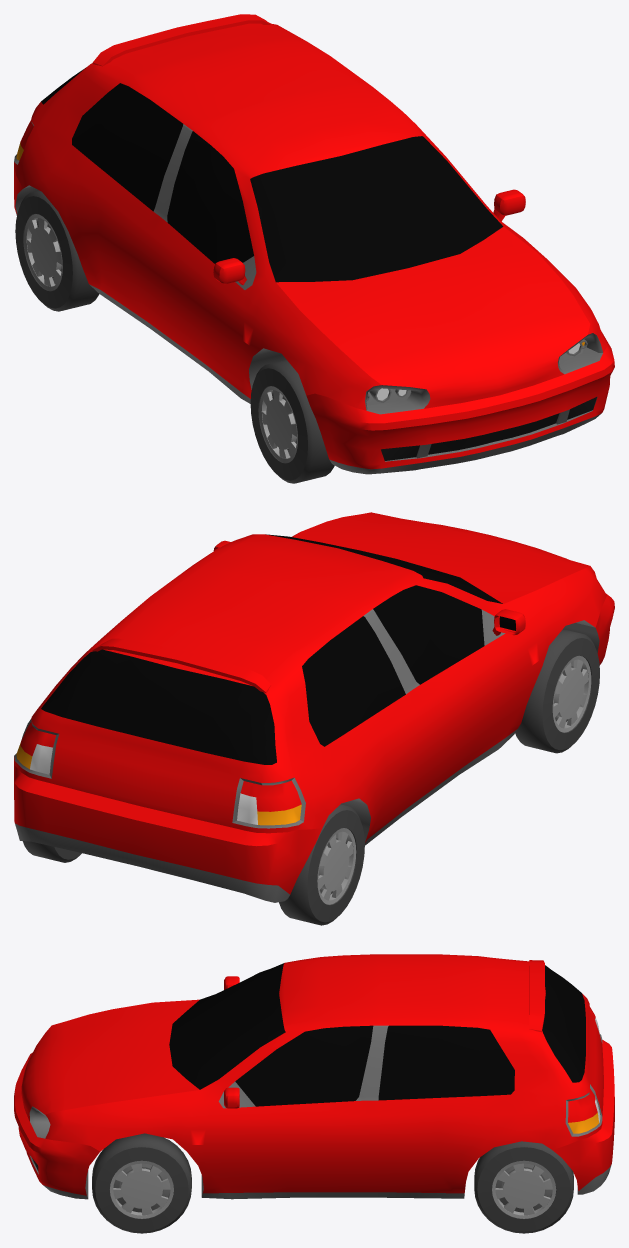
3 renders of one model, top to bottom at view 1: azimuth 30°, elevation 25°; view 2: azimuth 150°, elevation 25°; view 3: azimuth 270°, elevation 25°, orthographic. The views are drawn at different scales.
Visible parts, largest first — view 1: car_paint-material, glass-material.001, car_paint-material.002, car_paint-material.001, wheel-material.002, wheel-material.003, plastic-material.001, plastic-material.003, plastic-material.002, rims-material.002, rims-material.003, grill-material (+1 smaller); view 2: car_paint-material, glass-material.001, car_paint-material.003, car_paint-material.002, wheel-material.002, wheel-material.003, plastic-material.005, plastic-material.001, car_paint-material.004, rims-material.002, rims-material.003, light_red-material (+5 smaller); view 3: car_paint-material, glass-material.001, car_paint-material.002, wheel-material, wheel-material.001, car_paint-material.001, car_paint-material.003, plastic-material.001, rims-material, rims-material.001, car_paint-material.004, light_red-material (+3 smaller).
Boxes of the visible parts, bbox=[...] form: car_paint-material: bbox=[14, 22, 606, 410]; glass-material.001: bbox=[41, 68, 503, 282]; car_paint-material.002: bbox=[276, 227, 590, 408]; car_paint-material.001: bbox=[306, 331, 614, 469]; wheel-material.002: bbox=[250, 360, 334, 483]; wheel-material.003: bbox=[15, 190, 99, 311]; plastic-material.001: bbox=[24, 124, 286, 403]; plastic-material.003: bbox=[365, 333, 602, 414]; plastic-material.002: bbox=[329, 396, 601, 474]; rims-material.002: bbox=[259, 386, 297, 462]; rims-material.003: bbox=[24, 214, 62, 290]; grill-material: bbox=[381, 397, 596, 460]; car_paint-material: bbox=[14, 533, 606, 842]; glass-material.001: bbox=[41, 534, 502, 764]; car_paint-material.003: bbox=[14, 761, 322, 894]; car_paint-material.002: bbox=[293, 512, 589, 603]; wheel-material.002: bbox=[515, 629, 599, 753]; wheel-material.003: bbox=[279, 804, 364, 925]; plastic-material.005: bbox=[15, 823, 289, 902]; plastic-material.001: bbox=[341, 609, 594, 845]; car_paint-material.004: bbox=[92, 638, 270, 693]; rims-material.002: bbox=[552, 655, 591, 732]; rims-material.003: bbox=[317, 828, 356, 904]; light_red-material: bbox=[20, 721, 301, 811]; car_paint-material: bbox=[45, 954, 603, 1193]; glass-material.001: bbox=[169, 963, 585, 1106]; car_paint-material.002: bbox=[21, 999, 199, 1121]; wheel-material: bbox=[92, 1133, 191, 1233]; wheel-material.001: bbox=[474, 1141, 573, 1233]; car_paint-material.001: bbox=[14, 1052, 99, 1195]; car_paint-material.003: bbox=[552, 1040, 614, 1190]; plastic-material.001: bbox=[201, 1025, 464, 1199]; rims-material: bbox=[110, 1160, 173, 1218]; rims-material.001: bbox=[492, 1160, 556, 1218]; car_paint-material.004: bbox=[529, 960, 544, 1032]; light_red-material: bbox=[568, 1006, 597, 1122].
Size of the model in its own units: 1.12 by 0.8334 by 2.33.
